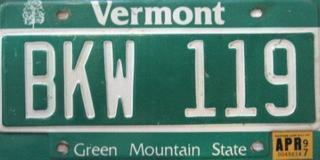placa de veiculo: (0, 3, 319, 157)
